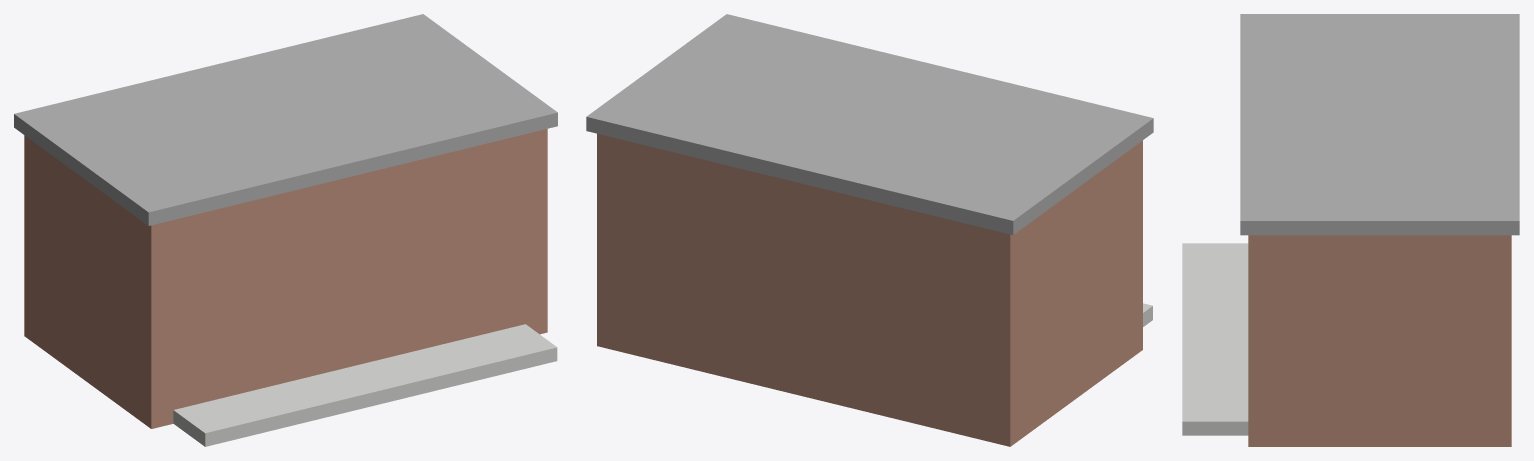
The model's file is whaling_museum.glb.
The picture shows the model from 3 angles, left to right: view 1: azimuth 30°, elevation 25°; view 2: azimuth 150°, elevation 25°; view 3: azimuth 270°, elevation 25°; orthographic projection. The views are drawn at different scales.
Visible parts, largest first — view 1: body, roof, steps; view 2: body, roof; view 3: roof, body, steps.
Boxes of the visible parts, x1,y1,x2,y2 form: body: [24, 129, 547, 428]; roof: [14, 14, 557, 225]; steps: [173, 324, 557, 446]; body: [597, 133, 1142, 446]; roof: [586, 14, 1153, 234]; roof: [1240, 14, 1519, 235]; body: [1248, 235, 1511, 446]; steps: [1182, 243, 1248, 435].
Size of the model in its own units: 18.59 by 9.6 by 12.8.
